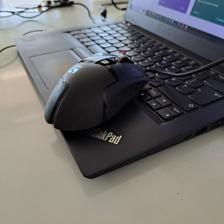mouse: (43, 54, 149, 131)
